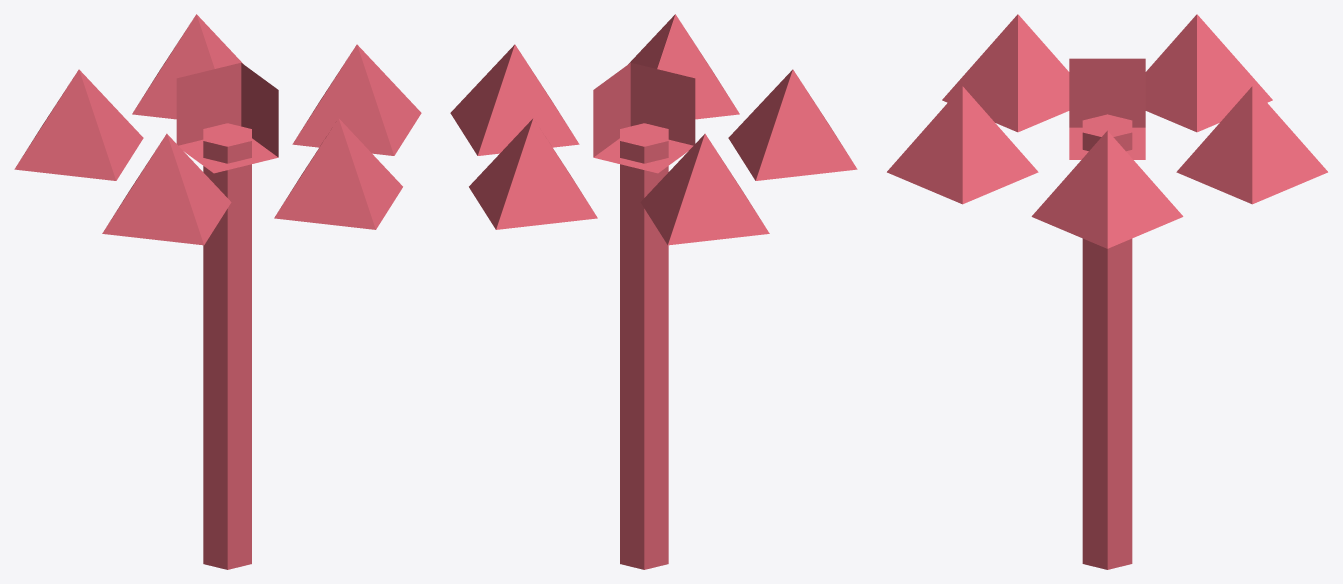
The model's file is FlowerRed.glb.
3 renders of one model, left to right at view 1: azimuth 30°, elevation 25°; view 2: azimuth 150°, elevation 25°; view 3: azimuth 270°, elevation 25°, orthographic.
Visible parts, largest first — view 1: filler_FlowerRed; view 2: filler_FlowerRed; view 3: filler_FlowerRed.
Part boxes in pixels (x1=…): filler_FlowerRed: x1=14, y1=14, x2=421, y2=569; filler_FlowerRed: x1=450, y1=14, x2=857, y2=569; filler_FlowerRed: x1=887, y1=14, x2=1327, y2=569.
Size of the model in its own units: 0.4494 by 0.57 by 0.4643.
